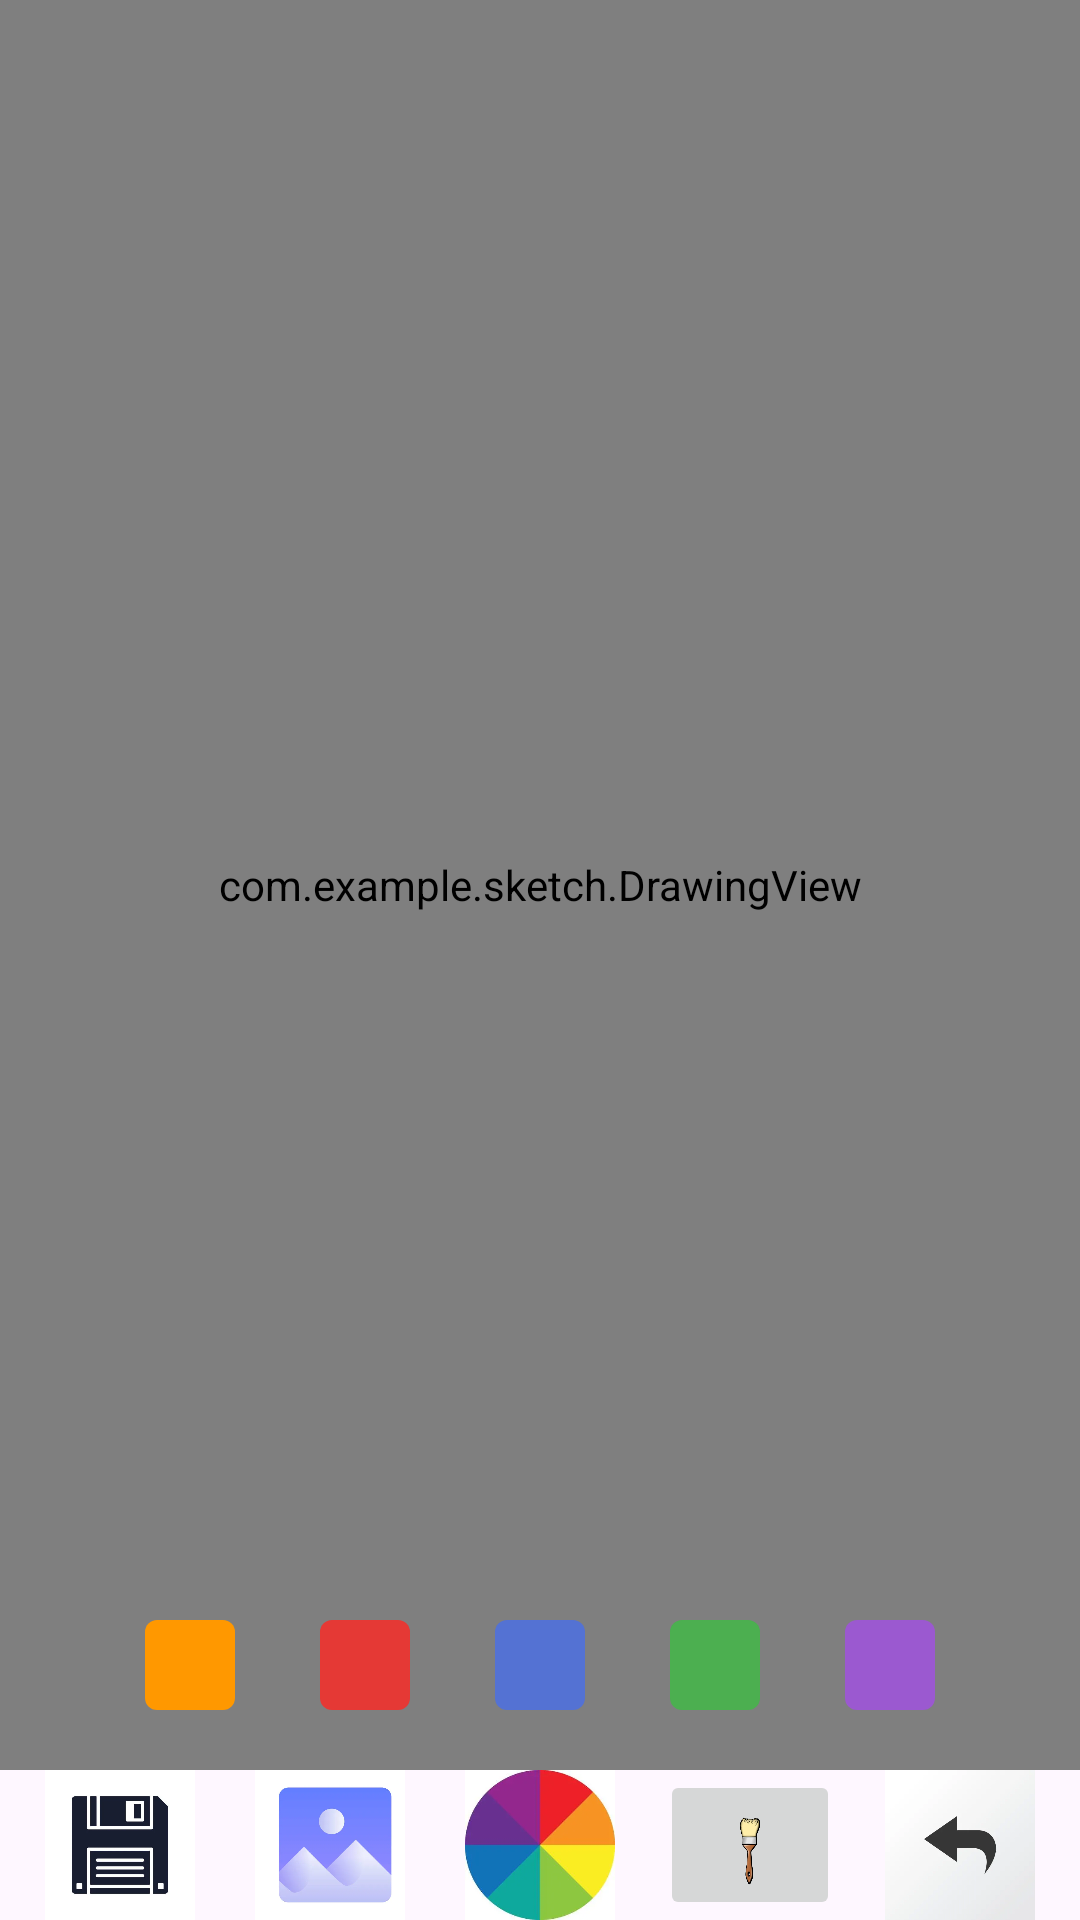

Icon bounding boxes for this 1080 x 1920 phone screenshot, format (x1, y1, x2, y2):
Choose color: (465, 1770, 615, 1920)
Open gallery: (279, 1787, 392, 1902)
Save drawing: (72, 1796, 168, 1894)
Select brush: (672, 1788, 828, 1902)
